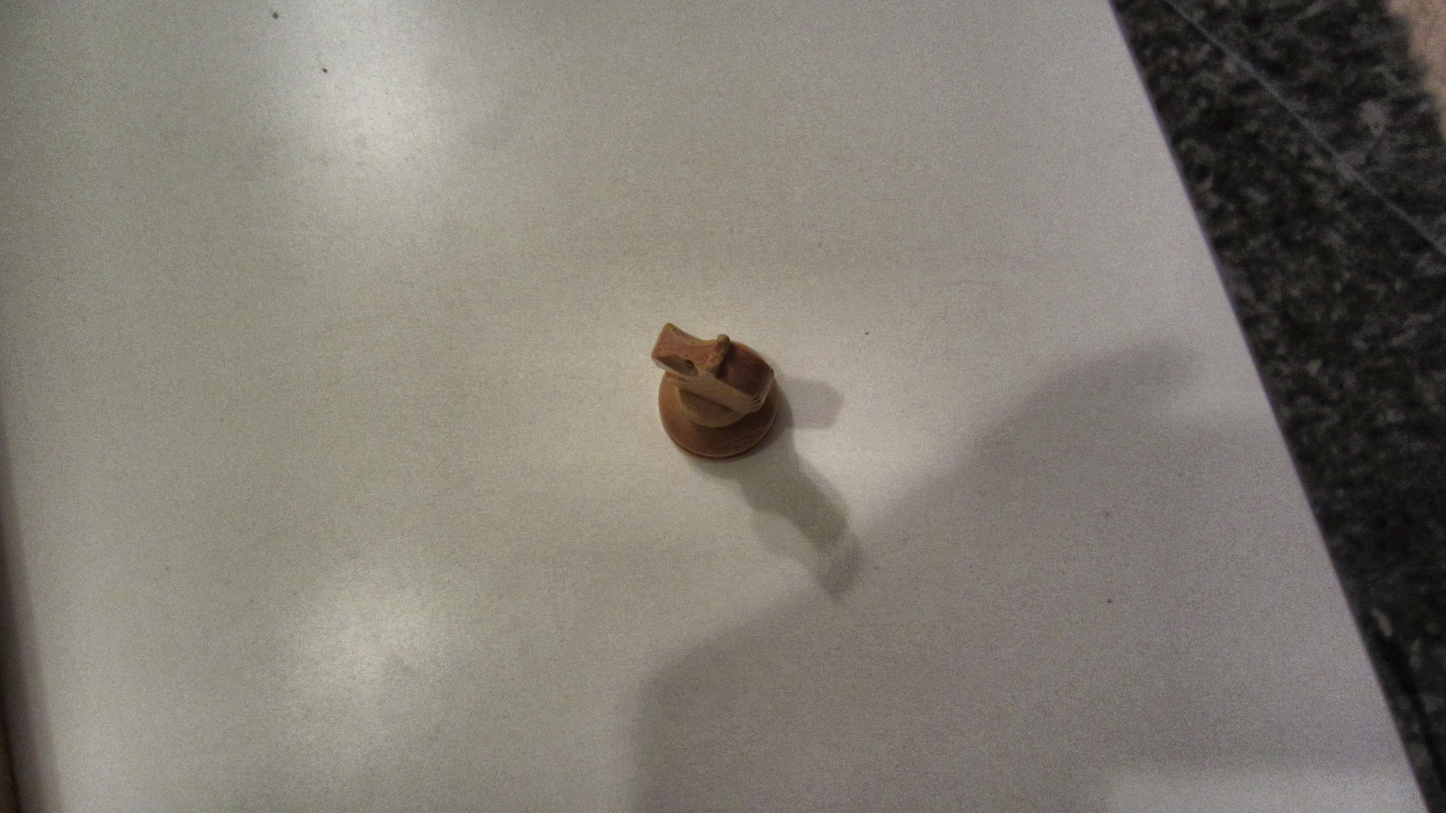white-knight: (649, 318, 783, 463)
